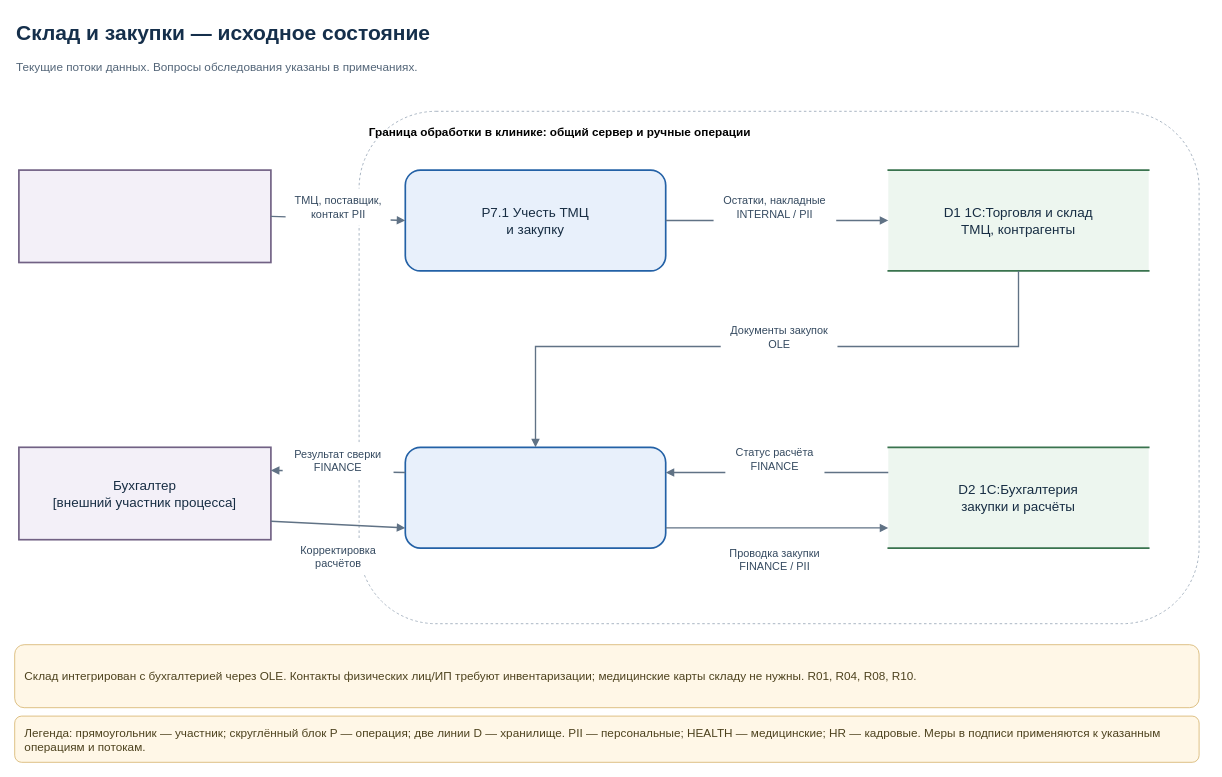
This 1222x777 diagram has some shape labels left out. The centre of each missing label's shape, as x and y in pixels:
"P7.2 Передать документы в бухгалтерский учёт" belongs at (535,497).
"Сотрудник склада [внешний участник процесса]" belongs at (144,216).
